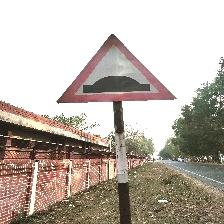Speed-breaker: (59, 38, 173, 102)
